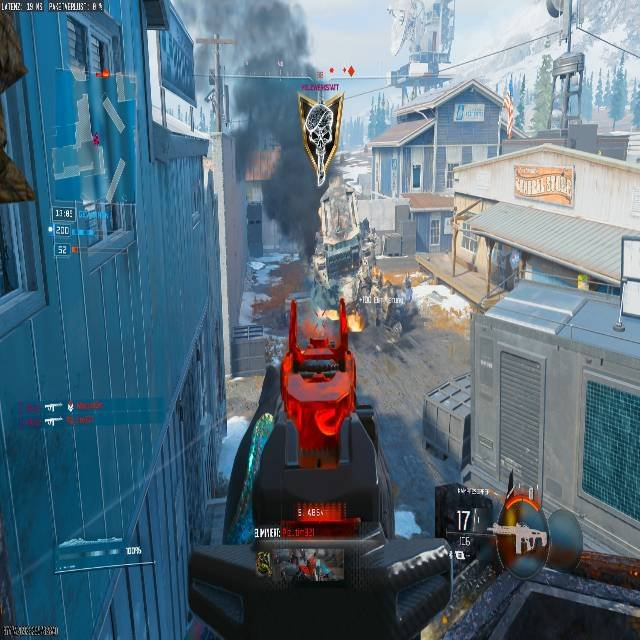player: (359, 217, 377, 281)
